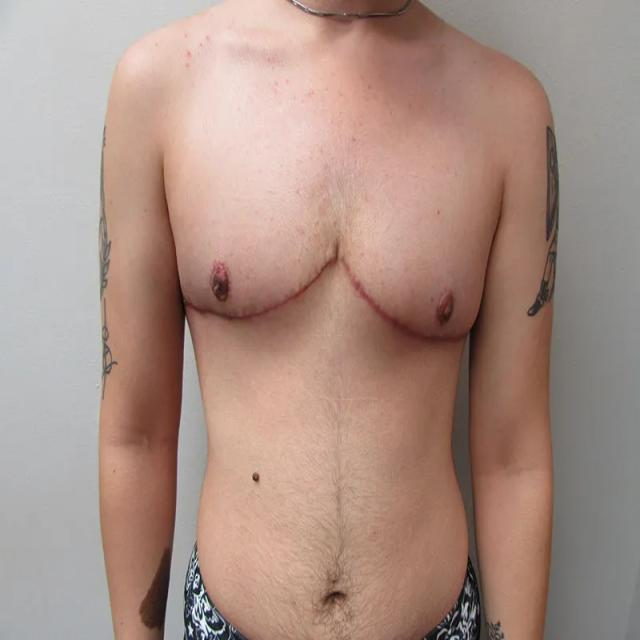Seno herido: (340, 172, 490, 371), (172, 171, 338, 350)
